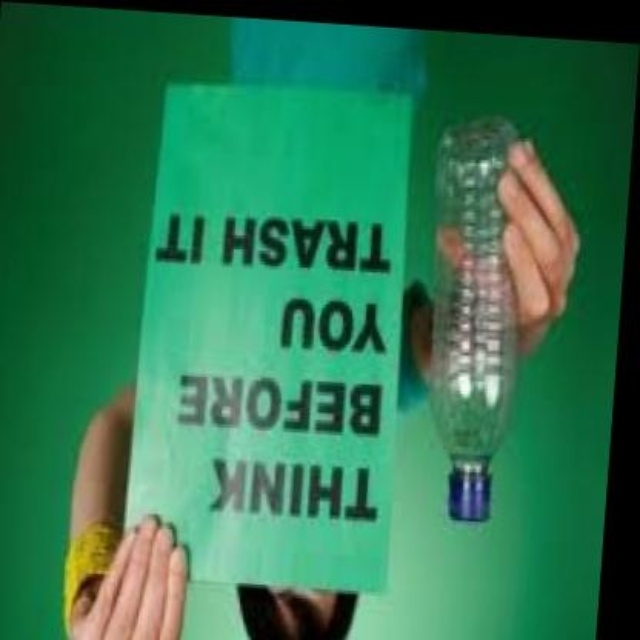trash: (431, 118, 515, 520)
